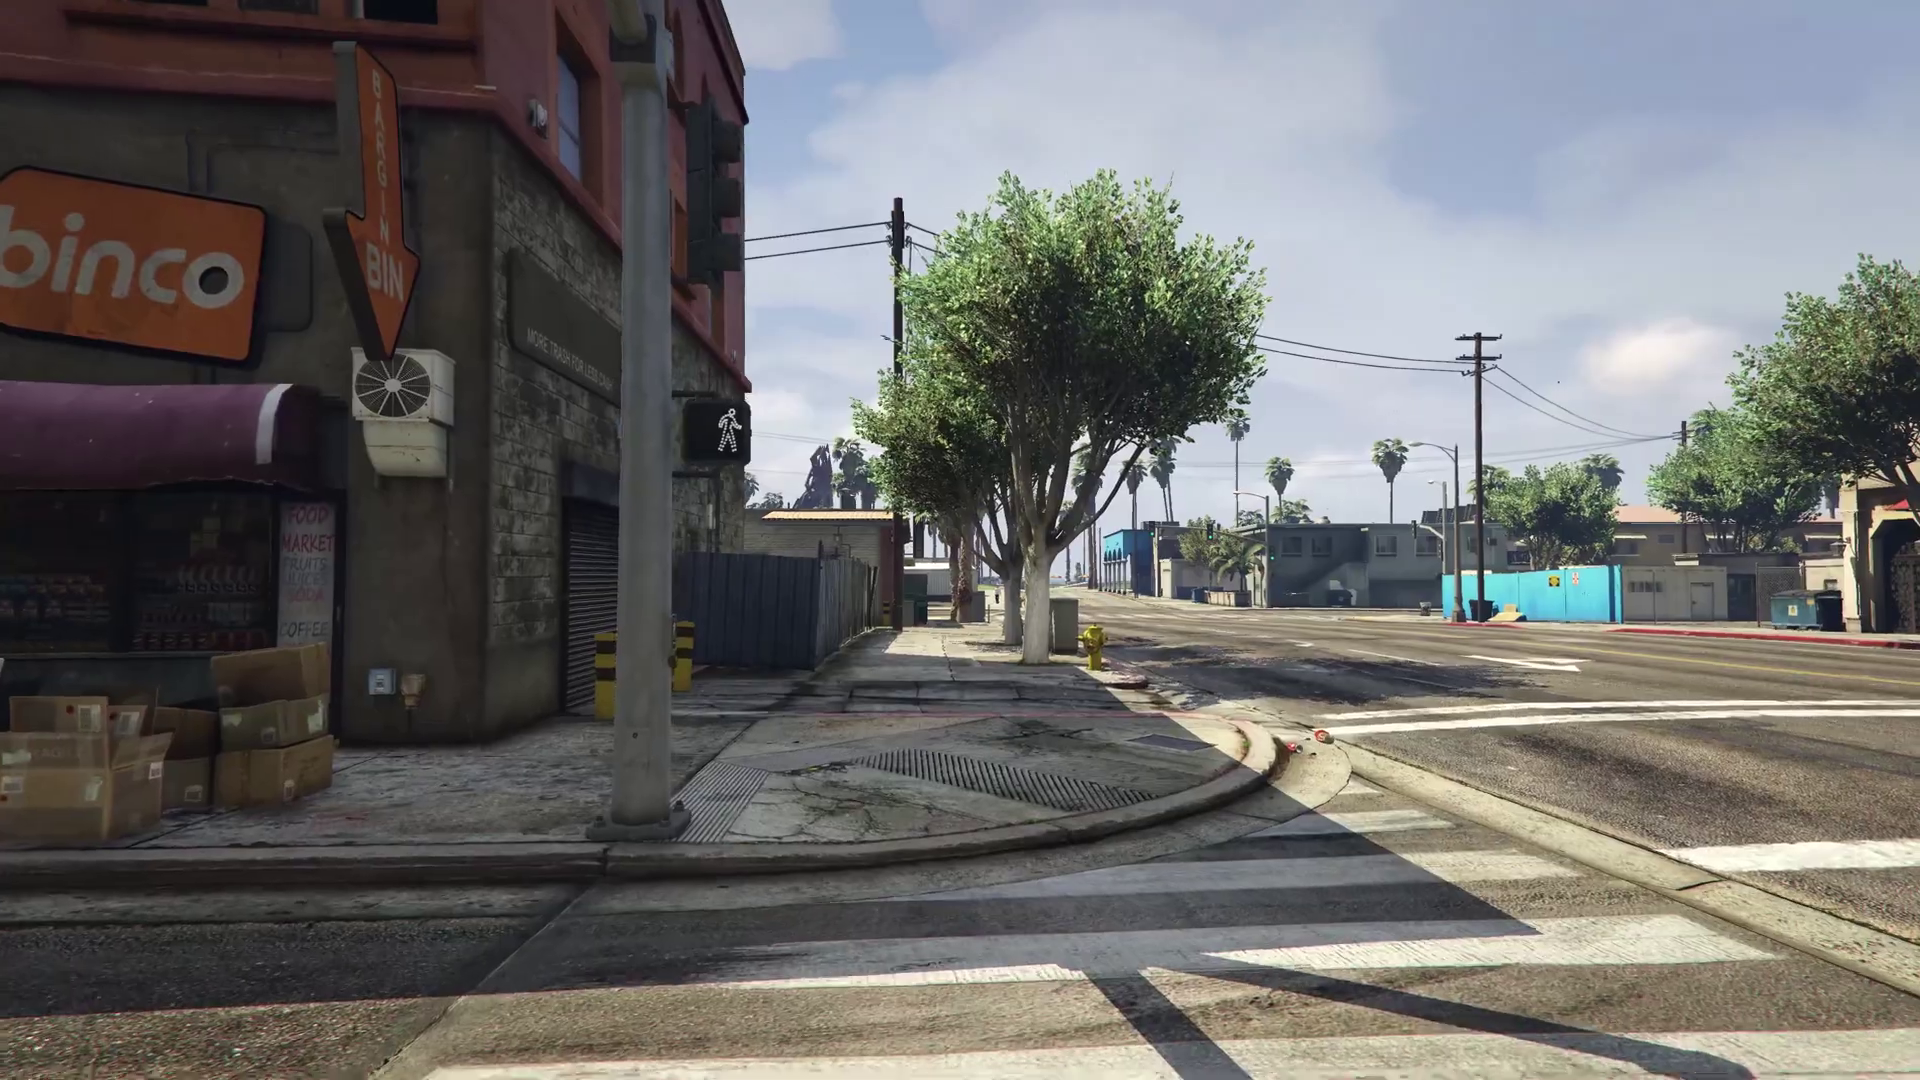person: (993, 585, 1002, 606)
traffic light: (681, 399, 749, 462), (1204, 523, 1214, 542), (1410, 519, 1416, 540), (1148, 521, 1155, 539), (1269, 546, 1274, 562)
